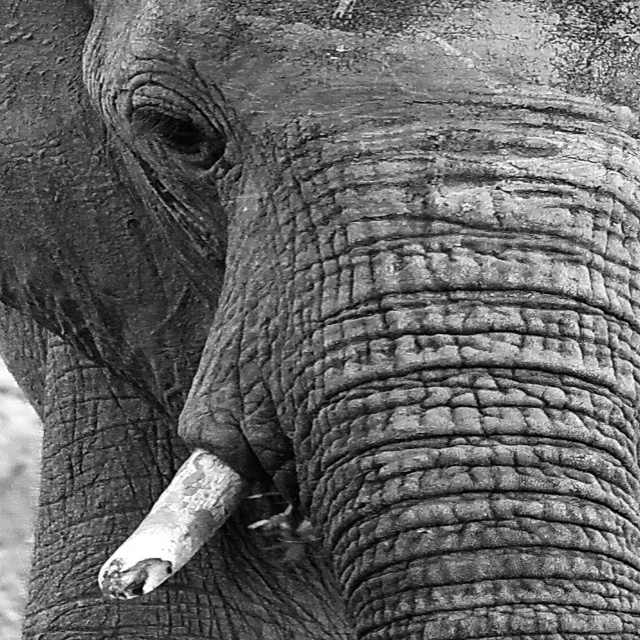Elephant: (27, 39, 640, 632)
